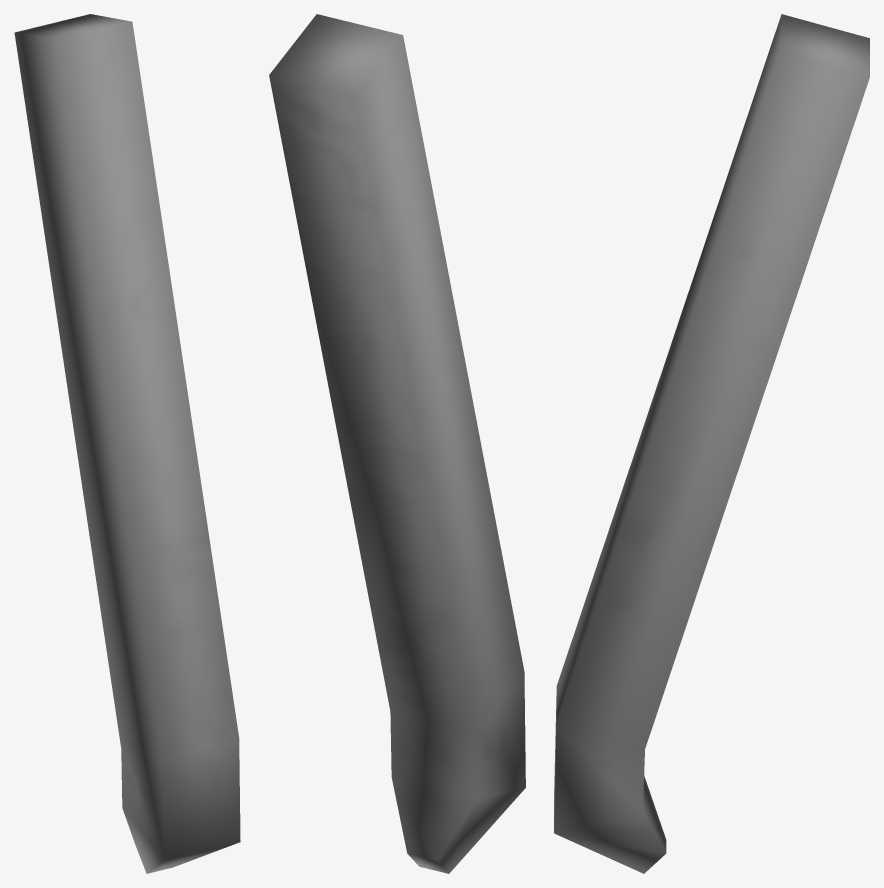
File: BuckleNail_Square.fbx
3 renders of one model, left to right at view 1: azimuth 30°, elevation 25°; view 2: azimuth 150°, elevation 25°; view 3: azimuth 270°, elevation 25°, orthographic. The views are drawn at different scales.
Parts seen in each view (by area): view 1: BuckleNail_Square_LOD0; view 2: BuckleNail_Square_LOD0; view 3: BuckleNail_Square_LOD0.
Boxes of the visible parts, box(x1,y1,x2,y2) form: BuckleNail_Square_LOD0: box(14, 14, 240, 873); BuckleNail_Square_LOD0: box(269, 14, 525, 873); BuckleNail_Square_LOD0: box(554, 14, 869, 873).
Size of what is drawn, in the model's own units: 1.97 by 19.58 by 6.72.
